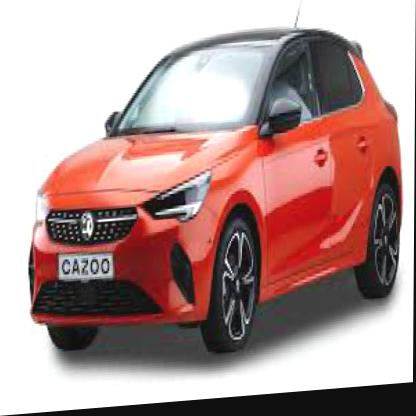Car: (28, 22, 403, 371)
